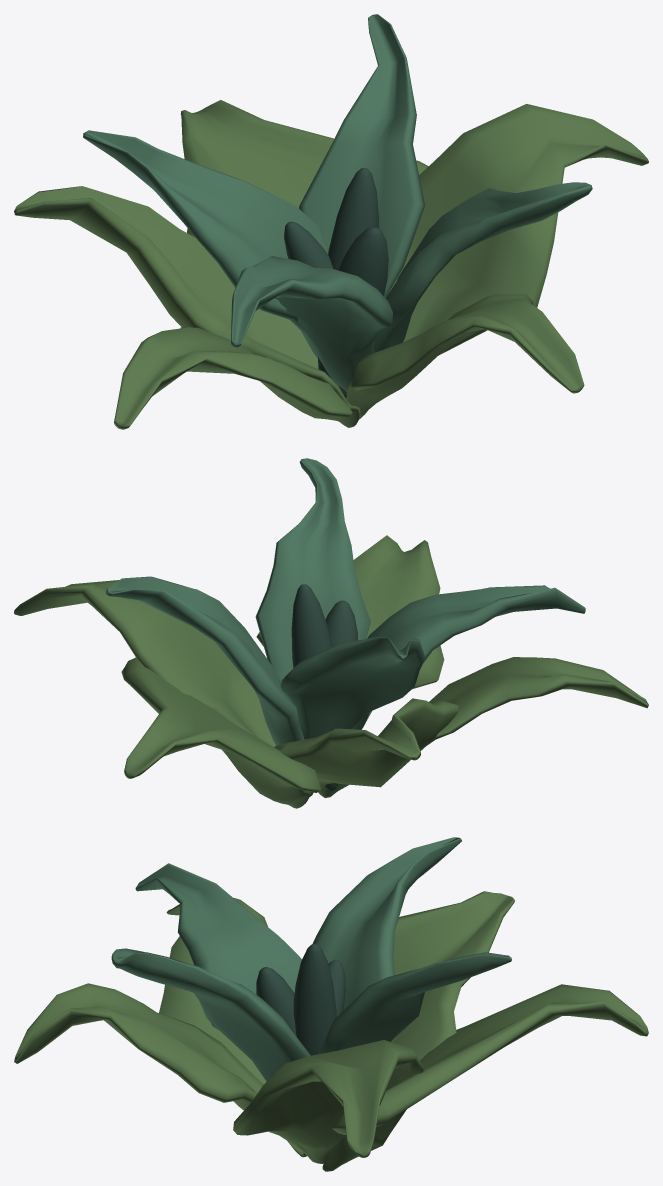
Rendered from sm_bush_01.fbx.
3 renders of one model, top to bottom at view 1: azimuth 30°, elevation 25°; view 2: azimuth 150°, elevation 25°; view 3: azimuth 270°, elevation 25°, orthographic. The views are drawn at different scales.
Visible parts, largest first — view 1: sm_bush_01; view 2: sm_bush_01; view 3: sm_bush_01.
Part boxes in pixels (x1,y1,x2,y2): sm_bush_01: [14, 14, 648, 429]; sm_bush_01: [14, 458, 648, 808]; sm_bush_01: [14, 837, 648, 1171].
Size of the model in its own units: 9.48 by 4.3 by 9.22.
